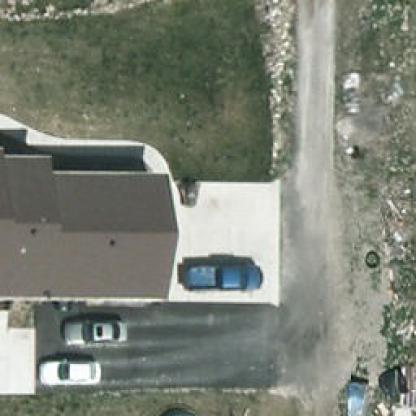car: (60, 318, 130, 346), (38, 358, 102, 387)
pickup: (177, 260, 263, 291)
